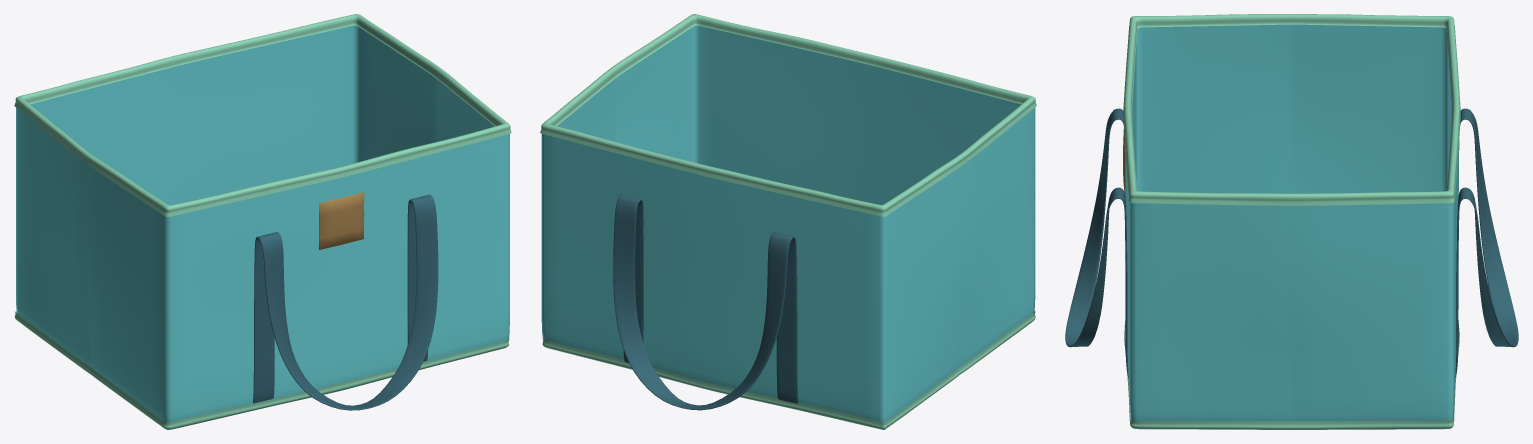
Rendered from Tote-Bag.fbx.
The picture shows the model from 3 angles, left to right: view 1: azimuth 30°, elevation 25°; view 2: azimuth 150°, elevation 25°; view 3: azimuth 270°, elevation 25°; orthographic projection. The views are drawn at different scales.
Parts seen in each view (by area): view 1: Object_4, Object_5, Object_3, Object_2; view 2: Object_4, Object_5, Object_3; view 3: Object_4, Object_5, Object_3.
Boxes of the visible parts, x1,y1,x2,y2 form: Object_4: [16, 25, 509, 422]; Object_5: [14, 14, 511, 429]; Object_3: [253, 194, 438, 410]; Object_2: [319, 192, 364, 249]; Object_4: [541, 25, 1035, 422]; Object_5: [540, 14, 1036, 429]; Object_3: [613, 194, 798, 410]; Object_4: [1125, 24, 1458, 421]; Object_5: [1123, 14, 1460, 429]; Object_3: [1065, 108, 1518, 377].
Bounding box in the file's own units: 269 × 163 × 280.
